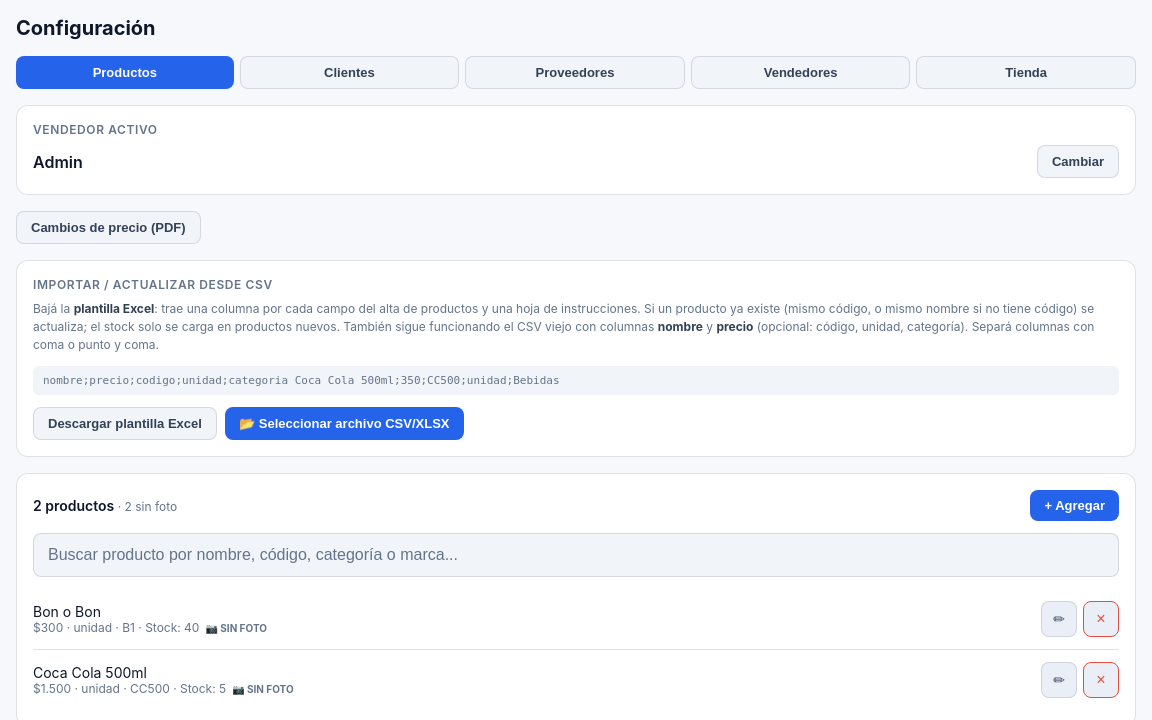
it: Proveedores (REQ-PROV) › AC-PROV-1 existe la pestaña Proveedores con listado y cantidad de productos asociados
Step 1. Click the button "proveedores" → (575, 72), box [465,56,685,89]
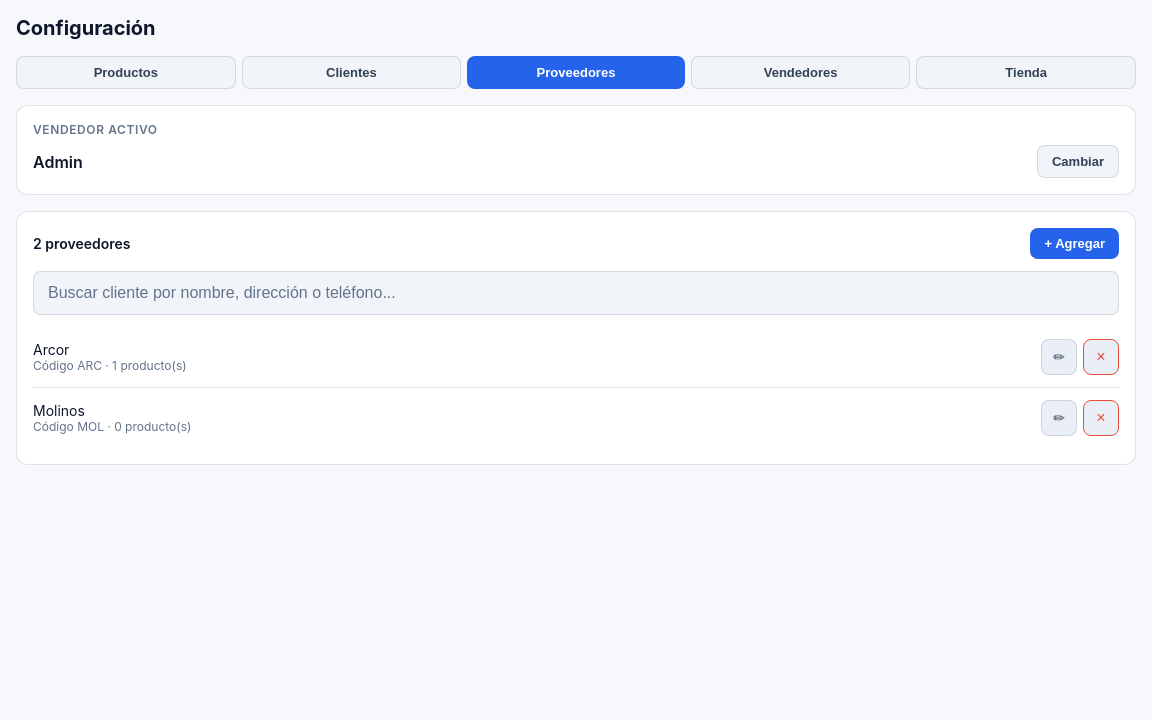
Check: the text "2 proveedores" is shown, box [33,235,130,252]
Check: the element with class "list-item" shows "Código ARC · 1 producto(s)", box [33,358,187,373]
Check: the element with class "list-item" shows "0 producto(s)", box [33,419,191,434]
